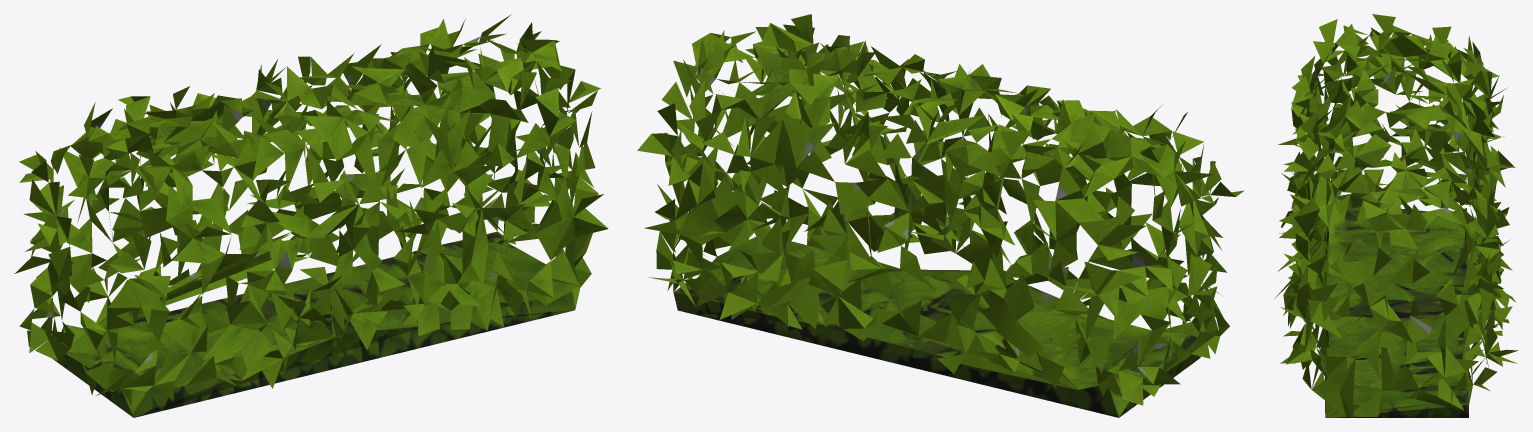
The model's file is hedge_section.glb.
3 views of the same model, side by side, from view 1: azimuth 30°, elevation 25°; view 2: azimuth 150°, elevation 25°; view 3: azimuth 270°, elevation 25° (orthographic). The views are drawn at different scales.
Size of the model in its own units: 1.86 by 0.8702 by 0.8565.
1 material, 1 textured.
